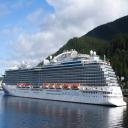cruises: (2, 50, 128, 109)
